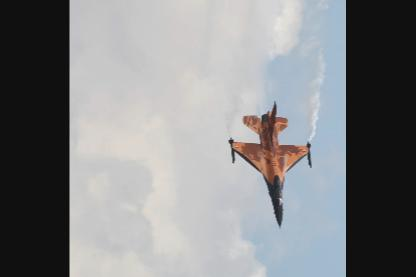F14: (229, 100, 312, 230)
